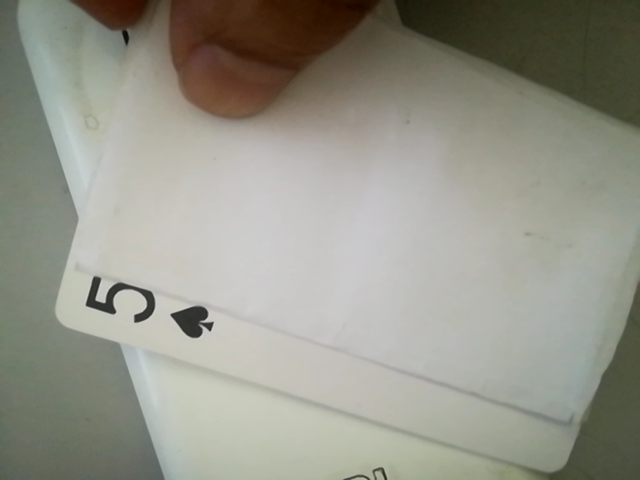ht 5: (65, 271, 228, 351)
